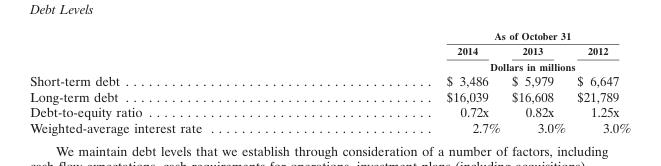table: (29, 28, 630, 134)
table column: (29, 28, 323, 134), (323, 28, 505, 134), (505, 28, 570, 134), (570, 28, 630, 134)
table column header: (29, 28, 630, 72)
table row: (29, 42, 630, 58), (29, 72, 630, 88), (29, 103, 630, 119), (29, 88, 630, 103), (29, 119, 630, 134), (29, 28, 630, 42), (29, 58, 630, 72)
table spanning cell: (323, 28, 630, 42), (323, 58, 630, 72)
